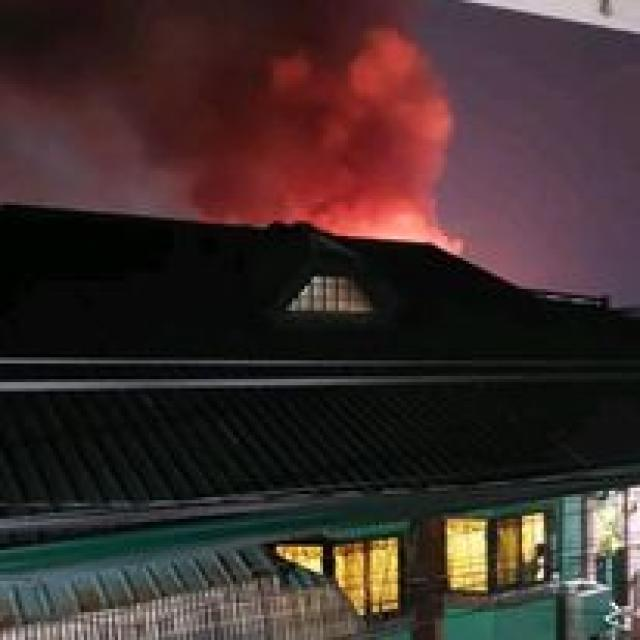Fire: (258, 110, 452, 238)
Smoke: (0, 0, 438, 171)
